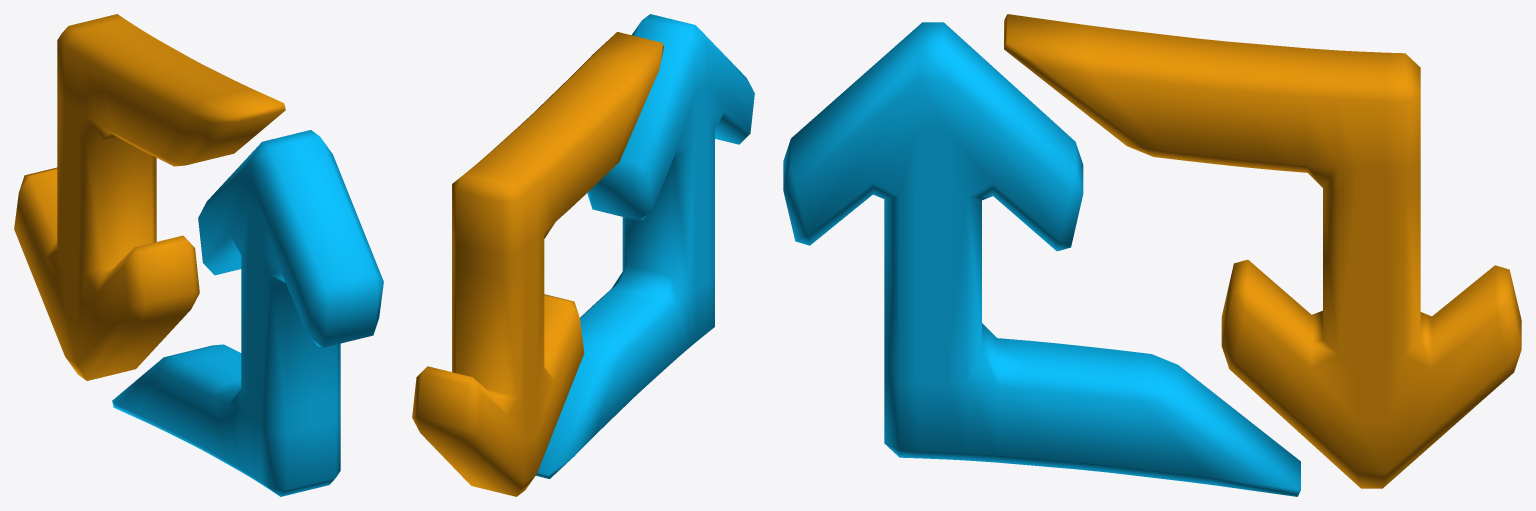
File: Reverse.glb
3 renders of one model, left to right at view 1: azimuth 30°, elevation 25°; view 2: azimuth 150°, elevation 25°; view 3: azimuth 270°, elevation 25°, orthographic. The views are drawn at different scales.
Visible parts, largest first — view 1: Cube.002; view 2: Cube.002; view 3: Cube.002.
Boxes of the visible parts, box(x1,y1,x2,y2) form: Cube.002: box(14, 14, 383, 496); Cube.002: box(412, 14, 754, 496); Cube.002: box(783, 14, 1521, 496).
Bounding box in the file's own units: 0.2019 × 1.04 × 1.52.
